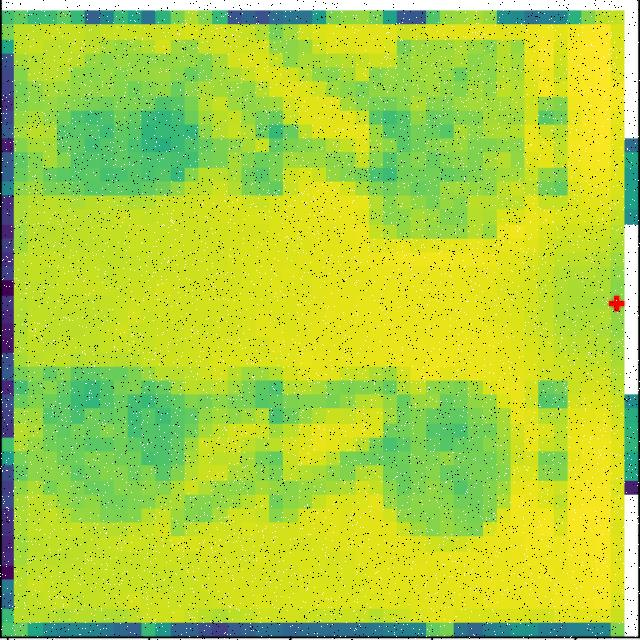Concrete: (366, 378, 516, 544)
Glass: (31, 360, 190, 553)
Metal: (351, 27, 534, 255)
Wood: (47, 46, 238, 210)
